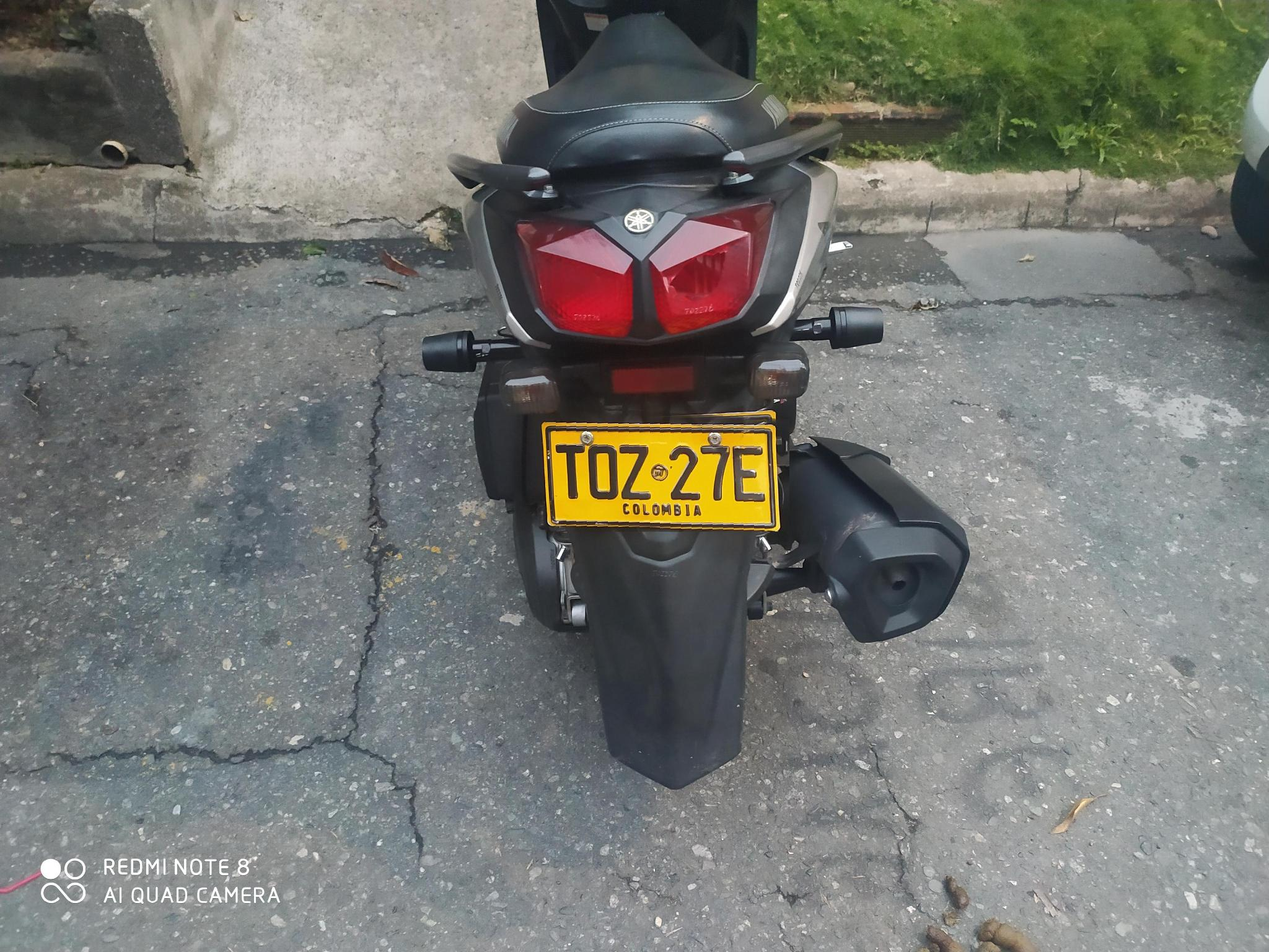placa: (529, 404, 789, 532)
